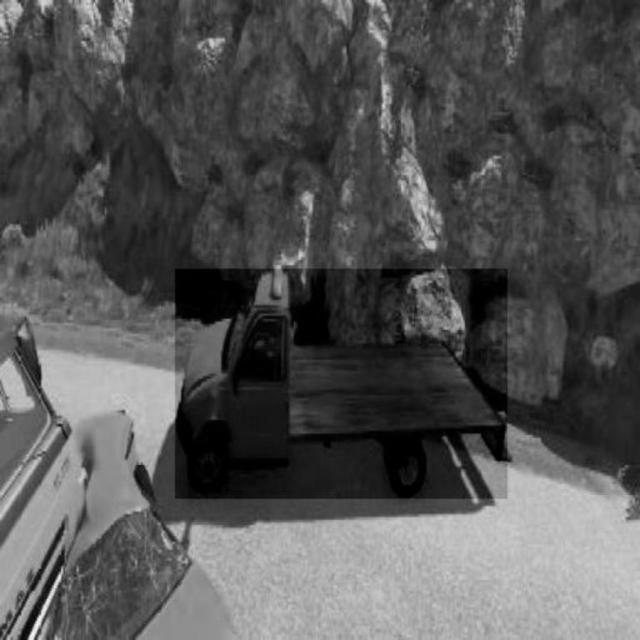vehicle: (176, 270, 508, 500)
